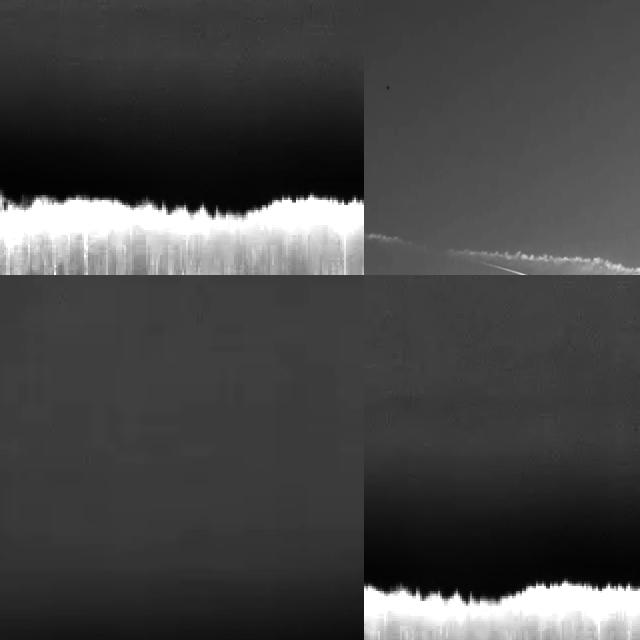drone: (382, 79, 391, 101)
